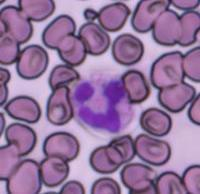N: (69, 70, 134, 135)
